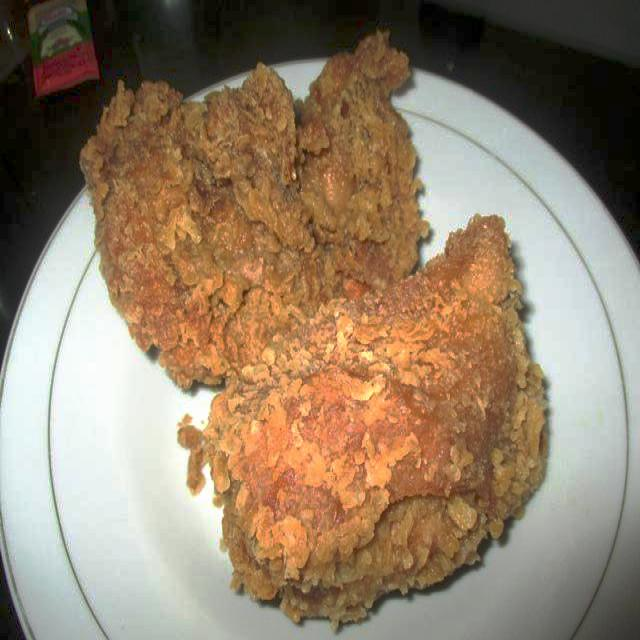fried_chicken: (209, 213, 546, 623), (85, 53, 417, 386)
